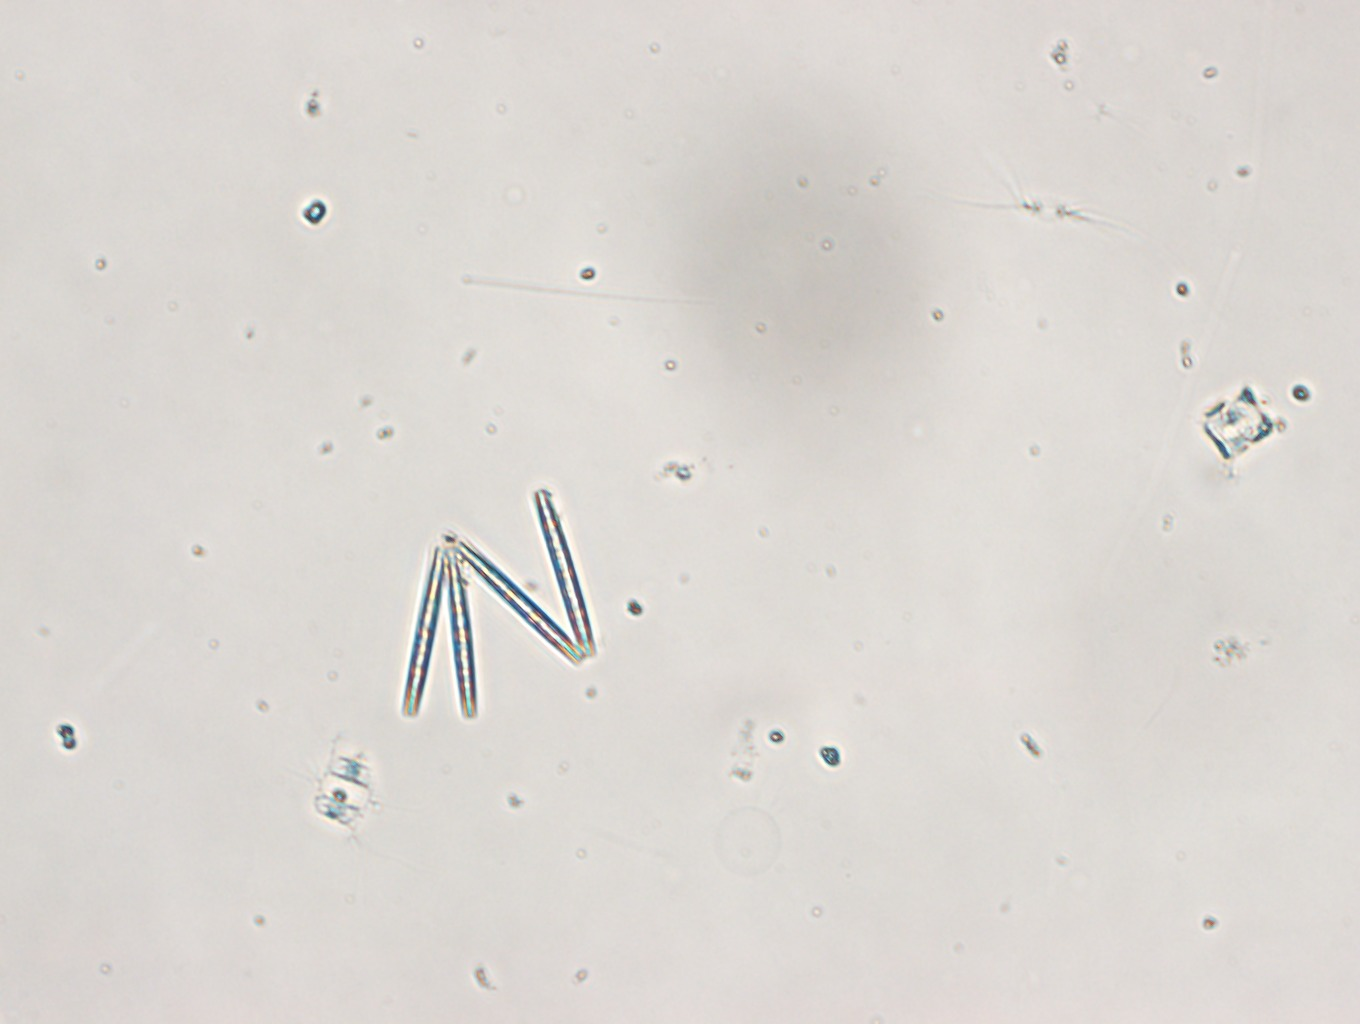thalassionema nitzschioides: (395, 488, 603, 719)
